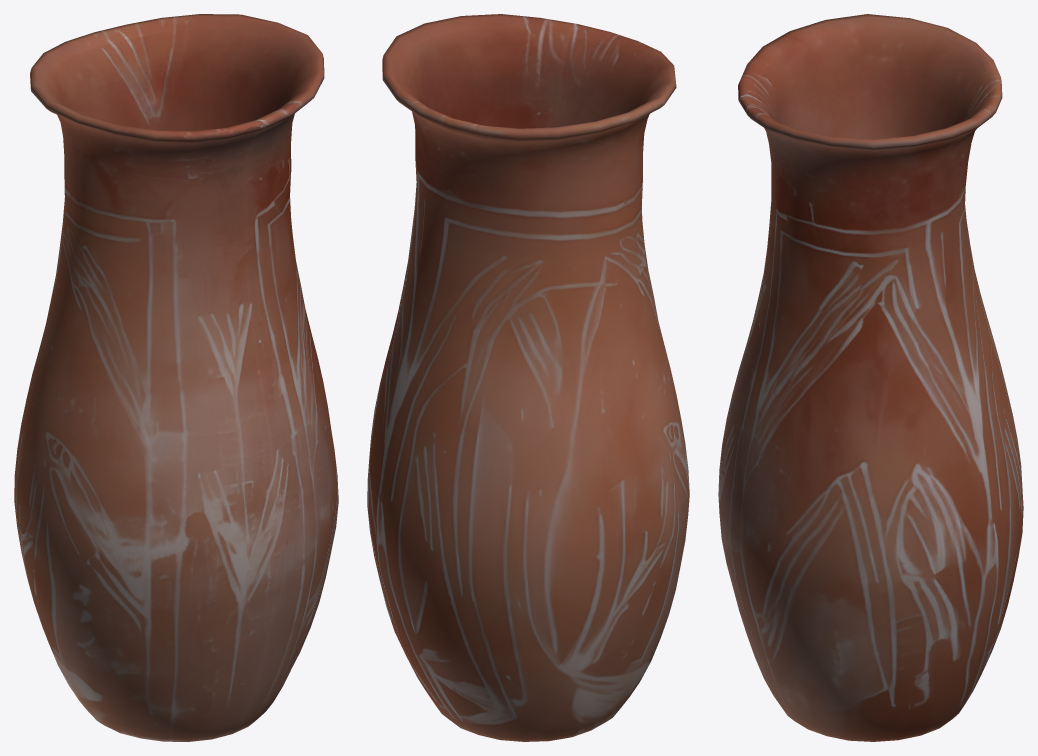
The picture shows the model from 3 angles, left to right: view 1: azimuth 30°, elevation 25°; view 2: azimuth 150°, elevation 25°; view 3: azimuth 270°, elevation 25°; orthographic projection.
Parts seen in each view (by area): view 1: Object_2; view 2: Object_2; view 3: Object_2.
Part boxes in pixels (x1=…): Object_2: x1=14, y1=14, x2=338, y2=741; Object_2: x1=367, y1=14, x2=689, y2=741; Object_2: x1=718, y1=14, x2=1023, y2=741.
Size of the model in its own units: 0.1301 by 0.2804 by 0.1226.
1 material, 1 textured.
